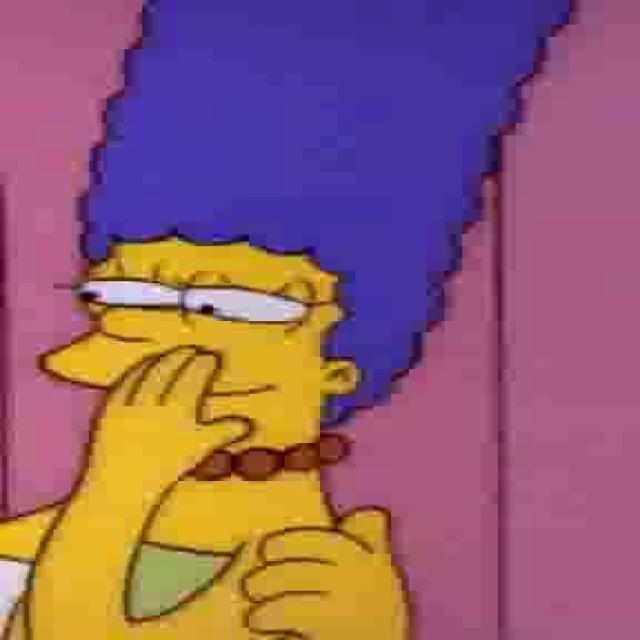Marge Simpson: (36, 0, 582, 489)
